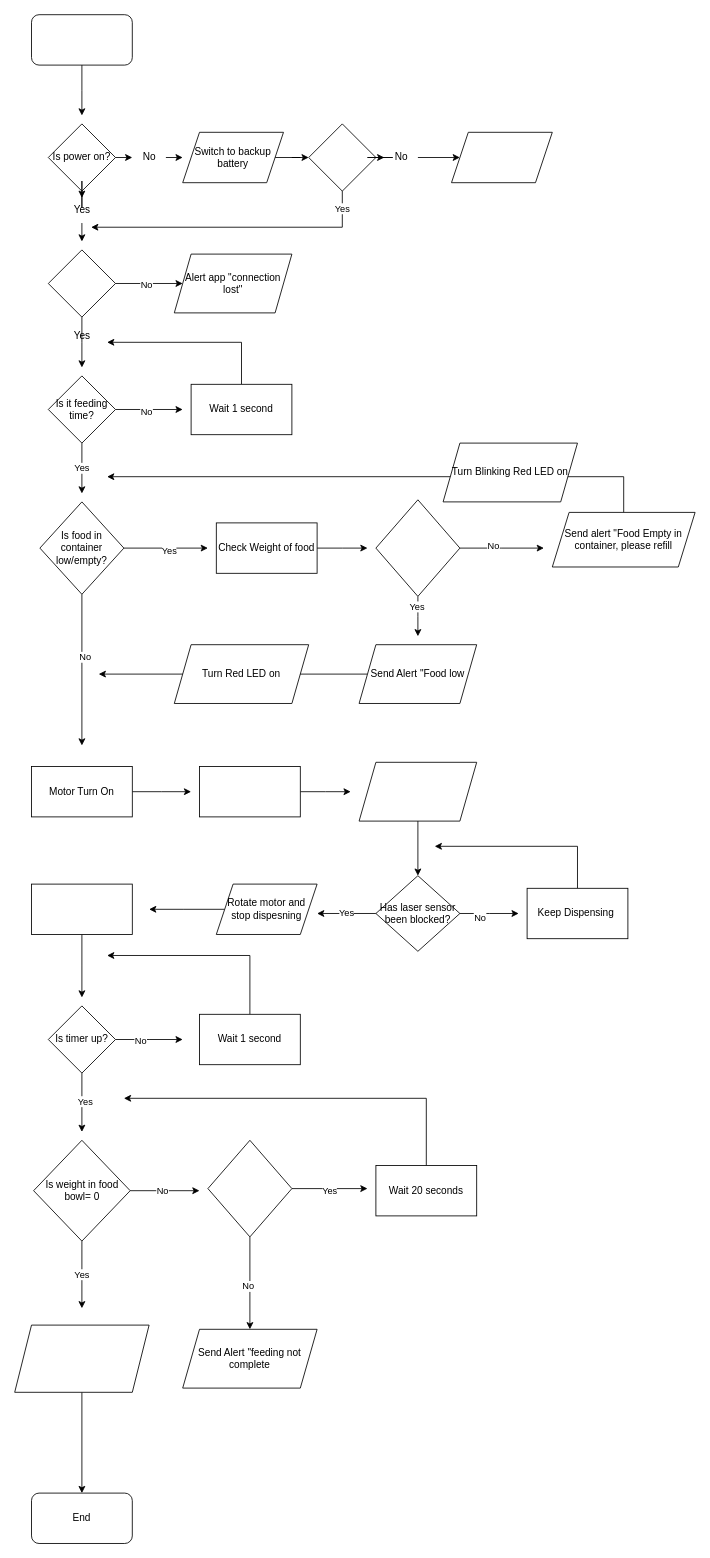
The diagram is 710 pixels wide and 1558 high, and some of its shapes have lost their labels. The shapes that lost their labels are listed below. From the top down, each one's box as (x1, y1, x2, y2) in pixels, then its label:
(31, 14, 132, 65): Start
(308, 123, 376, 191): is power on
(451, 131, 552, 183): Send alert "power loss"
(47, 249, 116, 317): Is wifi connected?
(375, 499, 460, 596): Is there enough for feeding
(199, 766, 300, 817): Check Portion Size inputed in app
(358, 761, 477, 821): Rotate and Despense Food
(31, 883, 132, 934): Check timer in app
(207, 1139, 292, 1237): Is animal prescence detected
(14, 1324, 149, 1392): Send alert "Feeding Complete
